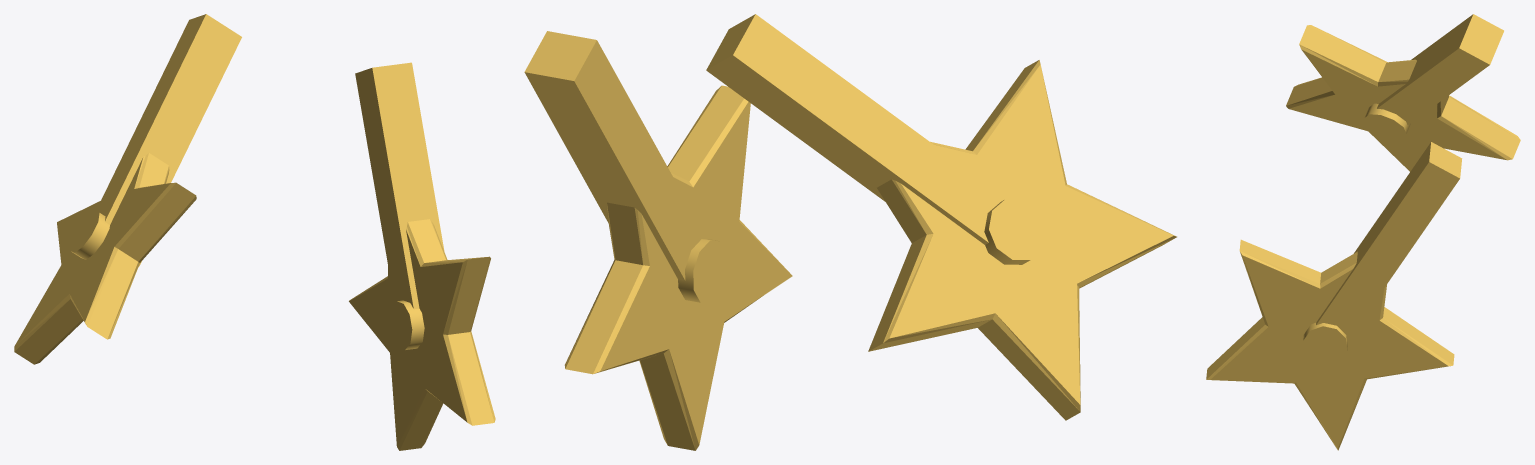
File: spurs.star-rowels.gltf
3 renders of one model, left to right at view 1: azimuth 30°, elevation 25°; view 2: azimuth 150°, elevation 25°; view 3: azimuth 270°, elevation 25°, orthographic. The views are drawn at different scales.
Visible parts, largest first — view 1: FootL, FootR; view 2: FootR, FootL; view 3: FootL, FootR.
Boxes of the visible parts, x1,y1,x2,y2 form: FootL: [349, 62, 495, 450]; FootR: [14, 14, 241, 364]; FootR: [706, 14, 1176, 420]; FootL: [524, 31, 792, 450]; FootL: [1206, 142, 1462, 450]; FootR: [1286, 14, 1520, 171].
Size of the model in its own units: 0.096 by 0.095 by 0.0723.
